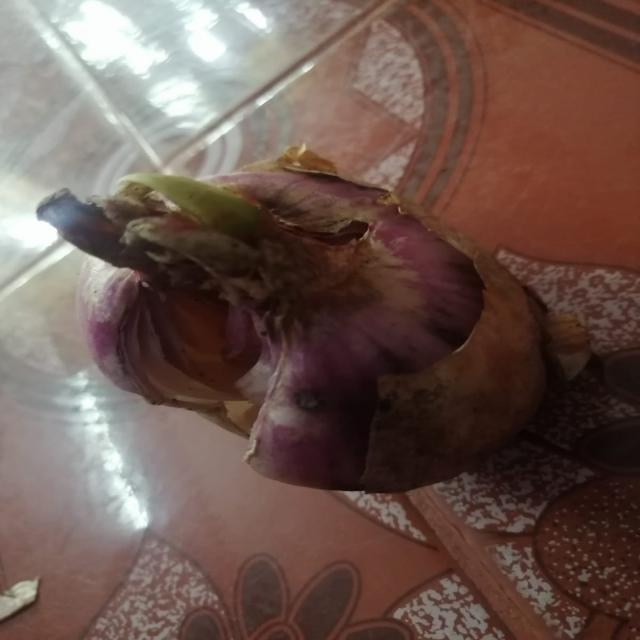rotten: (131, 321, 249, 434)
sprouting: (94, 184, 251, 256)
